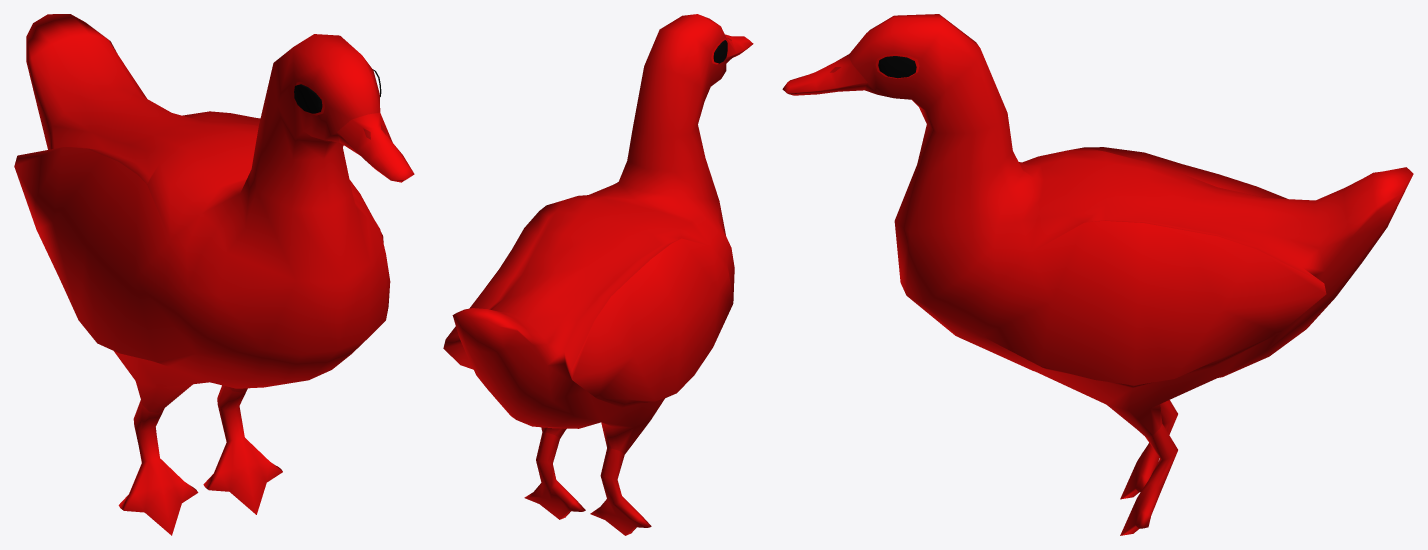
File: PekinDuck.glb
The picture shows the model from 3 angles, left to right: view 1: azimuth 30°, elevation 25°; view 2: azimuth 150°, elevation 25°; view 3: azimuth 270°, elevation 25°; orthographic projection. The views are drawn at different scales.
Parts seen in each view (by area): view 1: base_node_95; view 2: base_node_95; view 3: base_node_95.
Part boxes in pixels (<box>): base_node_95: <box>14,14,414,535</box>; base_node_95: <box>443,14,753,535</box>; base_node_95: <box>782,14,1413,535</box>.
Size of the model in its own units: 28.21 by 63.75 by 72.98.
